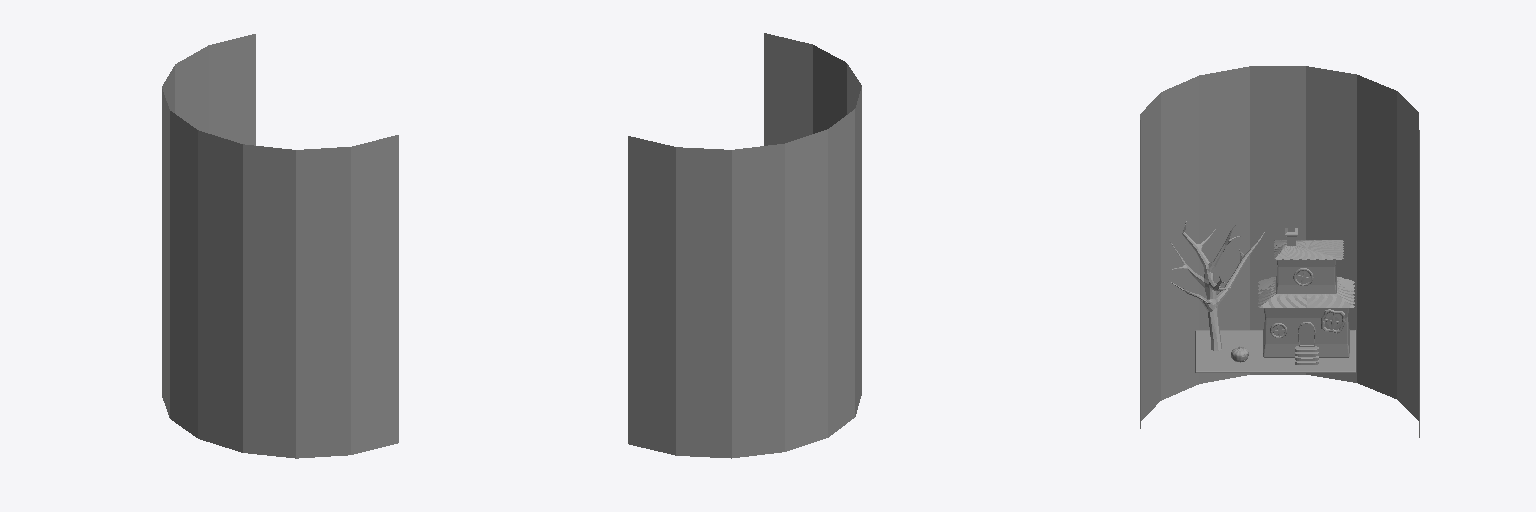
File: brujas.obj
The picture shows the model from 3 angles: view 1: azimuth 30°, elevation 25°; view 2: azimuth 150°, elevation 25°; view 3: azimuth 270°, elevation 25°; orthographic projection.
Visible parts, largest first — view 1: HalloweenHouse_obj; view 2: HalloweenHouse_obj; view 3: HalloweenHouse_obj.
Boxes of the visible parts, <box> form: HalloweenHouse_obj: <box>162,34,398,458</box>; HalloweenHouse_obj: <box>628,33,861,458</box>; HalloweenHouse_obj: <box>1140,66,1419,437</box>.
Size of the model in its own units: 17.85 by 35.91 by 29.46.